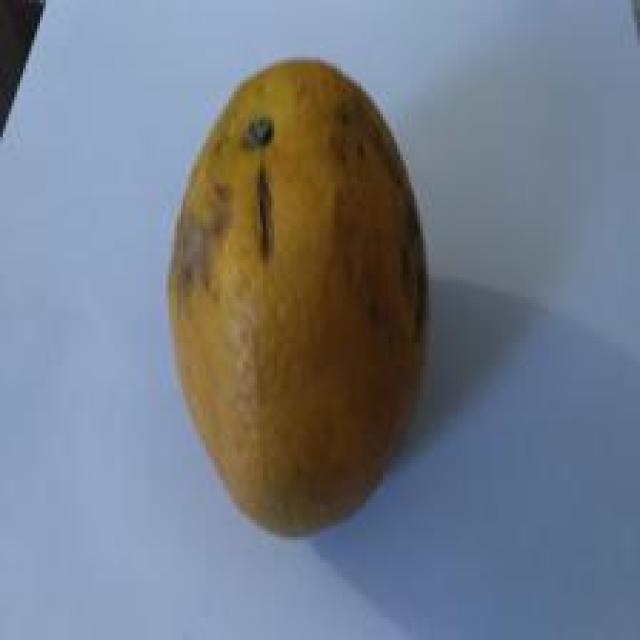overripe: (159, 44, 434, 546)
